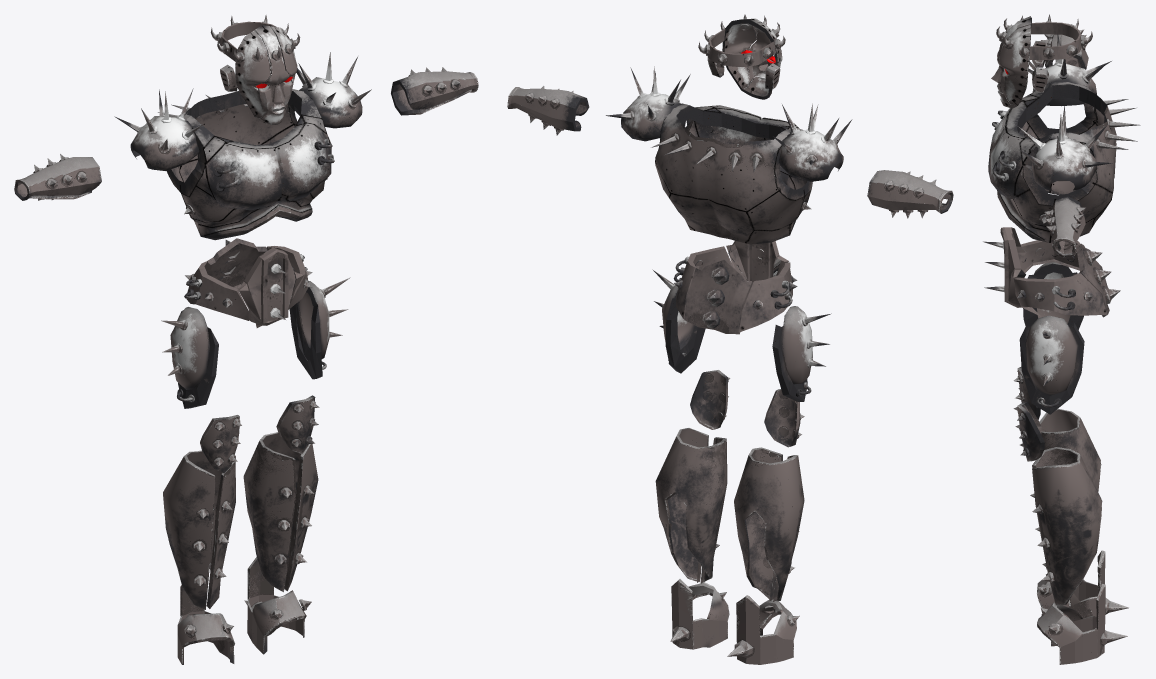
The model's file is TAVAT.fbx.
3 renders of one model, left to right at view 1: azimuth 30°, elevation 25°; view 2: azimuth 150°, elevation 25°; view 3: azimuth 270°, elevation 25°, orthographic. The views are drawn at different scales.
Parts seen in each view (by area): view 1: TAVAT_ARMOR_CHEST, TAVAT_ARMOR_LEG_LEFT, TAVAT_ARMOR_LEG_RIGHT, TAVAT_ARMOR_HIPS, TAVAT_ARMOR_HELMET, TAVAT_ARMOR_UPPER_LEG_RIGHT, TAVAT_ARMOR_UPPER_LEG_LEFT, TAVAT_ARMOR_ARM_RIGHT, TAVAT_ARMOR_FOOT_LEFT, TAVAT_ARMOR_FOREARM_RIGHT, TAVAT_ARMOR_FOREARM_LEFT, TAVAT_ARMOR_ARM_LEFT (+1 smaller); view 2: TAVAT_ARMOR_CHEST, TAVAT_ARMOR_HIPS, TAVAT_ARMOR_LEG_LEFT, TAVAT_ARMOR_LEG_RIGHT, TAVAT_ARMOR_UPPER_LEG_RIGHT, TAVAT_ARMOR_HELMET, TAVAT_ARMOR_UPPER_LEG_LEFT, TAVAT_ARMOR_FOOT_RIGHT, TAVAT_ARMOR_FOOT_LEFT, TAVAT_ARMOR_ARM_RIGHT, TAVAT_ARMOR_FOREARM_RIGHT, TAVAT_ARMOR_FOREARM_LEFT (+1 smaller); view 3: TAVAT_ARMOR_CHEST, TAVAT_ARMOR_LEG_LEFT, TAVAT_ARMOR_HIPS, TAVAT_ARMOR_UPPER_LEG_LEFT, TAVAT_ARMOR_HELMET, TAVAT_ARMOR_FOOT_LEFT, TAVAT_ARMOR_ARM_LEFT, TAVAT_ARMOR_LEG_RIGHT, TAVAT_ARMOR_FOREARM_LEFT, TAVAT_ARMOR_FOOT_RIGHT, TAVAT_ARMOR_UPPER_LEG_RIGHT, TAVAT_ARMOR_ARM_RIGHT (+1 smaller).
Part boxes in pixels (x1=…): TAVAT_ARMOR_CHEST: x1=158, y1=89, x2=334, y2=240; TAVAT_ARMOR_LEG_LEFT: x1=243, y1=432, x2=318, y2=592; TAVAT_ARMOR_LEG_RIGHT: x1=163, y1=450, x2=235, y2=609; TAVAT_ARMOR_HIPS: x1=184, y1=238, x2=312, y2=327; TAVAT_ARMOR_HELMET: x1=210, y1=15, x2=300, y2=124; TAVAT_ARMOR_UPPER_LEG_RIGHT: x1=161, y1=307, x2=241, y2=472; TAVAT_ARMOR_UPPER_LEG_LEFT: x1=276, y1=277, x2=350, y2=453; TAVAT_ARMOR_ARM_RIGHT: x1=114, y1=88, x2=203, y2=170; TAVAT_ARMOR_FOOT_LEFT: x1=244, y1=557, x2=311, y2=654; TAVAT_ARMOR_FOREARM_RIGHT: x1=14, y1=154, x2=101, y2=200; TAVAT_ARMOR_FOREARM_LEFT: x1=391, y1=67, x2=478, y2=115; TAVAT_ARMOR_ARM_LEFT: x1=294, y1=52, x2=371, y2=128; TAVAT_ARMOR_CHEST: x1=651, y1=103, x2=812, y2=244; TAVAT_ARMOR_HIPS: x1=673, y1=240, x2=797, y2=334; TAVAT_ARMOR_LEG_LEFT: x1=655, y1=428, x2=727, y2=583; TAVAT_ARMOR_LEG_RIGHT: x1=734, y1=447, x2=804, y2=601; TAVAT_ARMOR_UPPER_LEG_RIGHT: x1=764, y1=306, x2=831, y2=447; TAVAT_ARMOR_HELMET: x1=698, y1=14, x2=785, y2=99; TAVAT_ARMOR_UPPER_LEG_LEFT: x1=652, y1=269, x2=730, y2=429; TAVAT_ARMOR_FOOT_RIGHT: x1=727, y1=595, x2=799, y2=664; TAVAT_ARMOR_FOOT_LEFT: x1=670, y1=579, x2=729, y2=649; TAVAT_ARMOR_ARM_RIGHT: x1=773, y1=103, x2=852, y2=181; TAVAT_ARMOR_FOREARM_RIGHT: x1=867, y1=170, x2=953, y2=218; TAVAT_ARMOR_FOREARM_LEFT: x1=507, y1=86, x2=589, y2=135; TAVAT_ARMOR_CHEST: x1=988, y1=82, x2=1140, y2=242; TAVAT_ARMOR_LEG_LEFT: x1=1030, y1=447, x2=1102, y2=605; TAVAT_ARMOR_HIPS: x1=983, y1=227, x2=1120, y2=317; TAVAT_ARMOR_UPPER_LEG_LEFT: x1=1013, y1=315, x2=1084, y2=461; TAVAT_ARMOR_HELMET: x1=991, y1=14, x2=1092, y2=108; TAVAT_ARMOR_FOOT_LEFT: x1=1037, y1=584, x2=1127, y2=664; TAVAT_ARMOR_ARM_LEFT: x1=1018, y1=106, x2=1112, y2=190; TAVAT_ARMOR_LEG_RIGHT: x1=1039, y1=409, x2=1101, y2=491; TAVAT_ARMOR_FOREARM_LEFT: x1=1044, y1=196, x2=1086, y2=257; TAVAT_ARMOR_FOOT_RIGHT: x1=1037, y1=550, x2=1128, y2=618; TAVAT_ARMOR_UPPER_LEG_RIGHT: x1=1013, y1=262, x2=1083, y2=419; TAVAT_ARMOR_ARM_RIGHT: x1=1028, y1=34, x2=1111, y2=106.
Bounding box in the file's own units: 0.1293 × 0.1747 × 0.0405.
